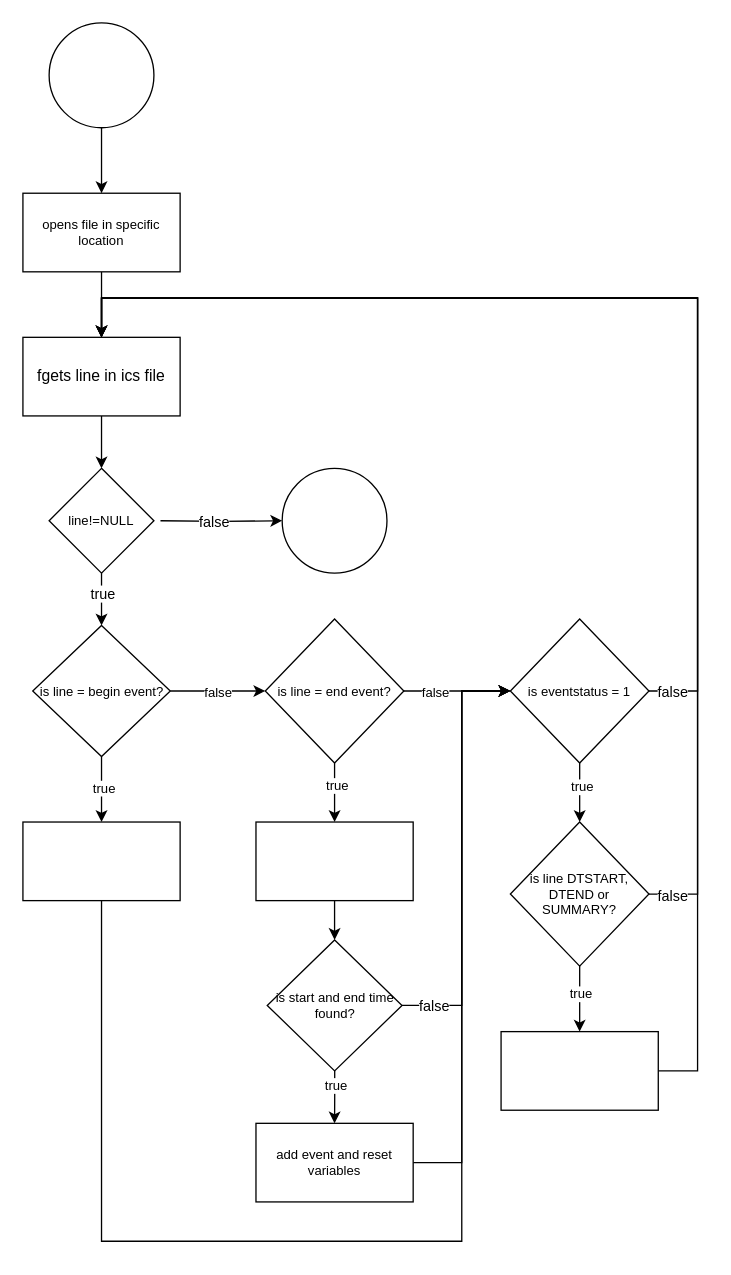
Some shapes in this 731 by 1275 pixel diagram are drawn without their labels. The shapes that lost their labels are listed below. From the top down, each one's centre as x and y in pixels, then its label:
At [101,75]: "start".
At [334,520]: "end".
At [101,861]: "eventstatus = 1".
At [334,861]: "eventstatus = 0".
At [579,1070]: "scan and convert data into event variables".
